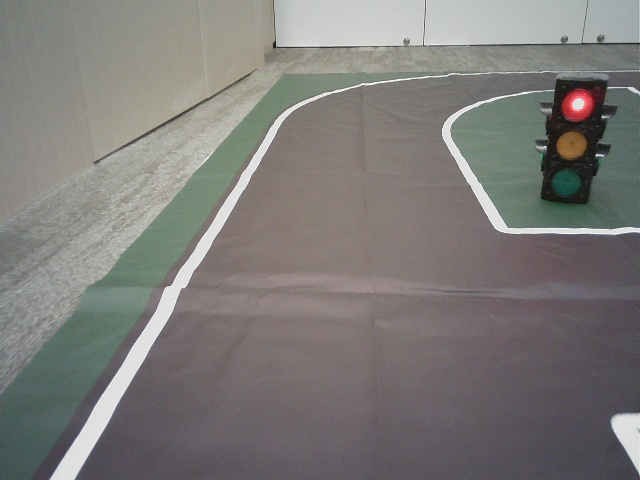red: (550, 85, 592, 197)
